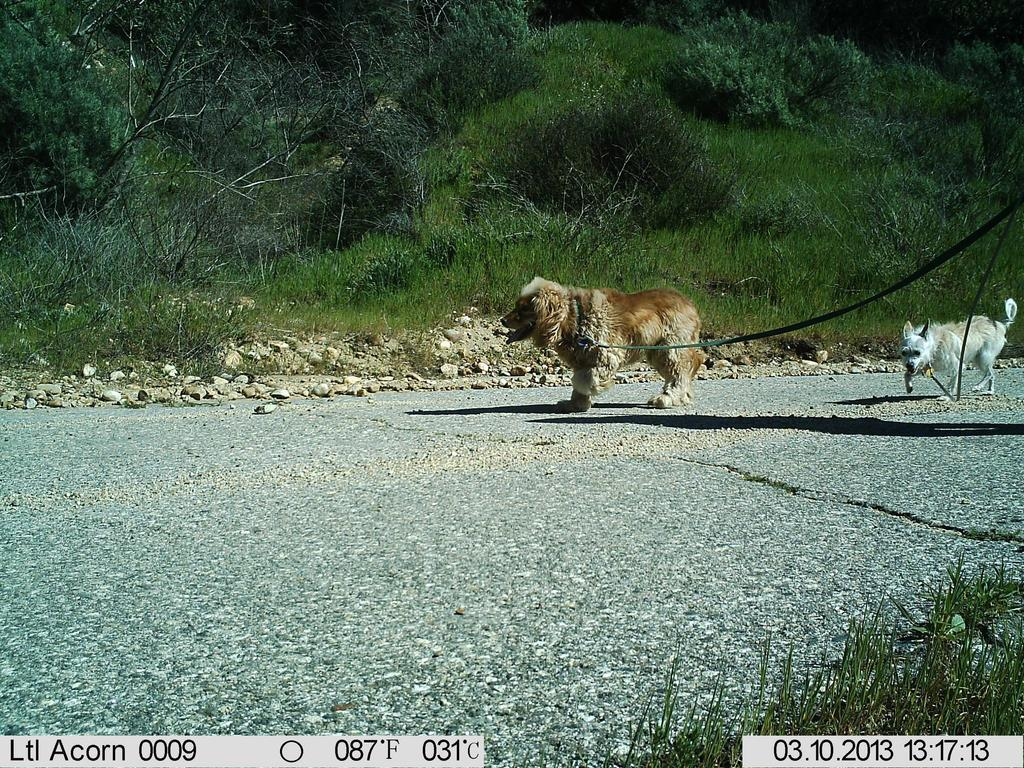dog: (488, 263, 720, 419), (893, 293, 1024, 411)
